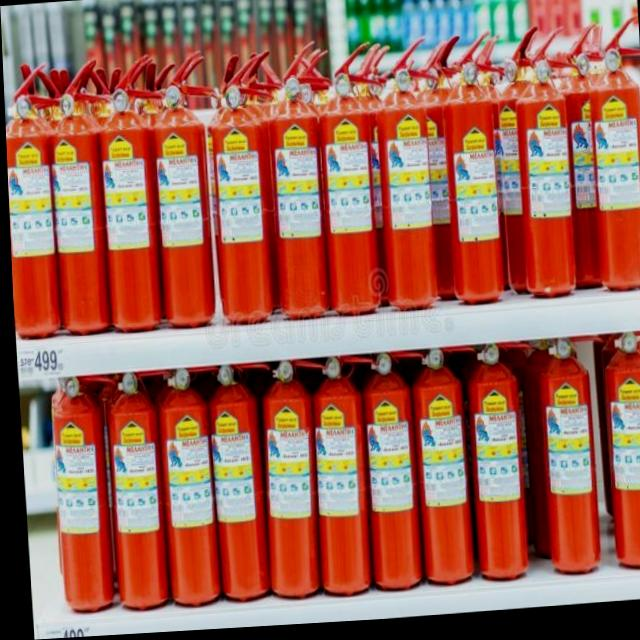FireExtinguisher: (141, 42, 224, 335), (257, 40, 341, 328), (432, 25, 514, 320), (367, 31, 451, 317), (43, 49, 125, 341), (198, 45, 280, 333), (90, 47, 171, 337), (507, 28, 589, 306), (311, 37, 389, 327), (406, 33, 480, 307), (543, 21, 615, 300), (524, 337, 603, 587), (485, 21, 553, 306), (147, 362, 224, 610), (195, 359, 272, 606), (40, 369, 115, 618), (96, 369, 172, 614), (247, 360, 322, 606), (576, 18, 640, 304), (2, 57, 64, 345), (351, 351, 423, 598), (401, 346, 473, 586), (301, 352, 367, 602), (458, 342, 525, 584), (594, 333, 640, 583)
